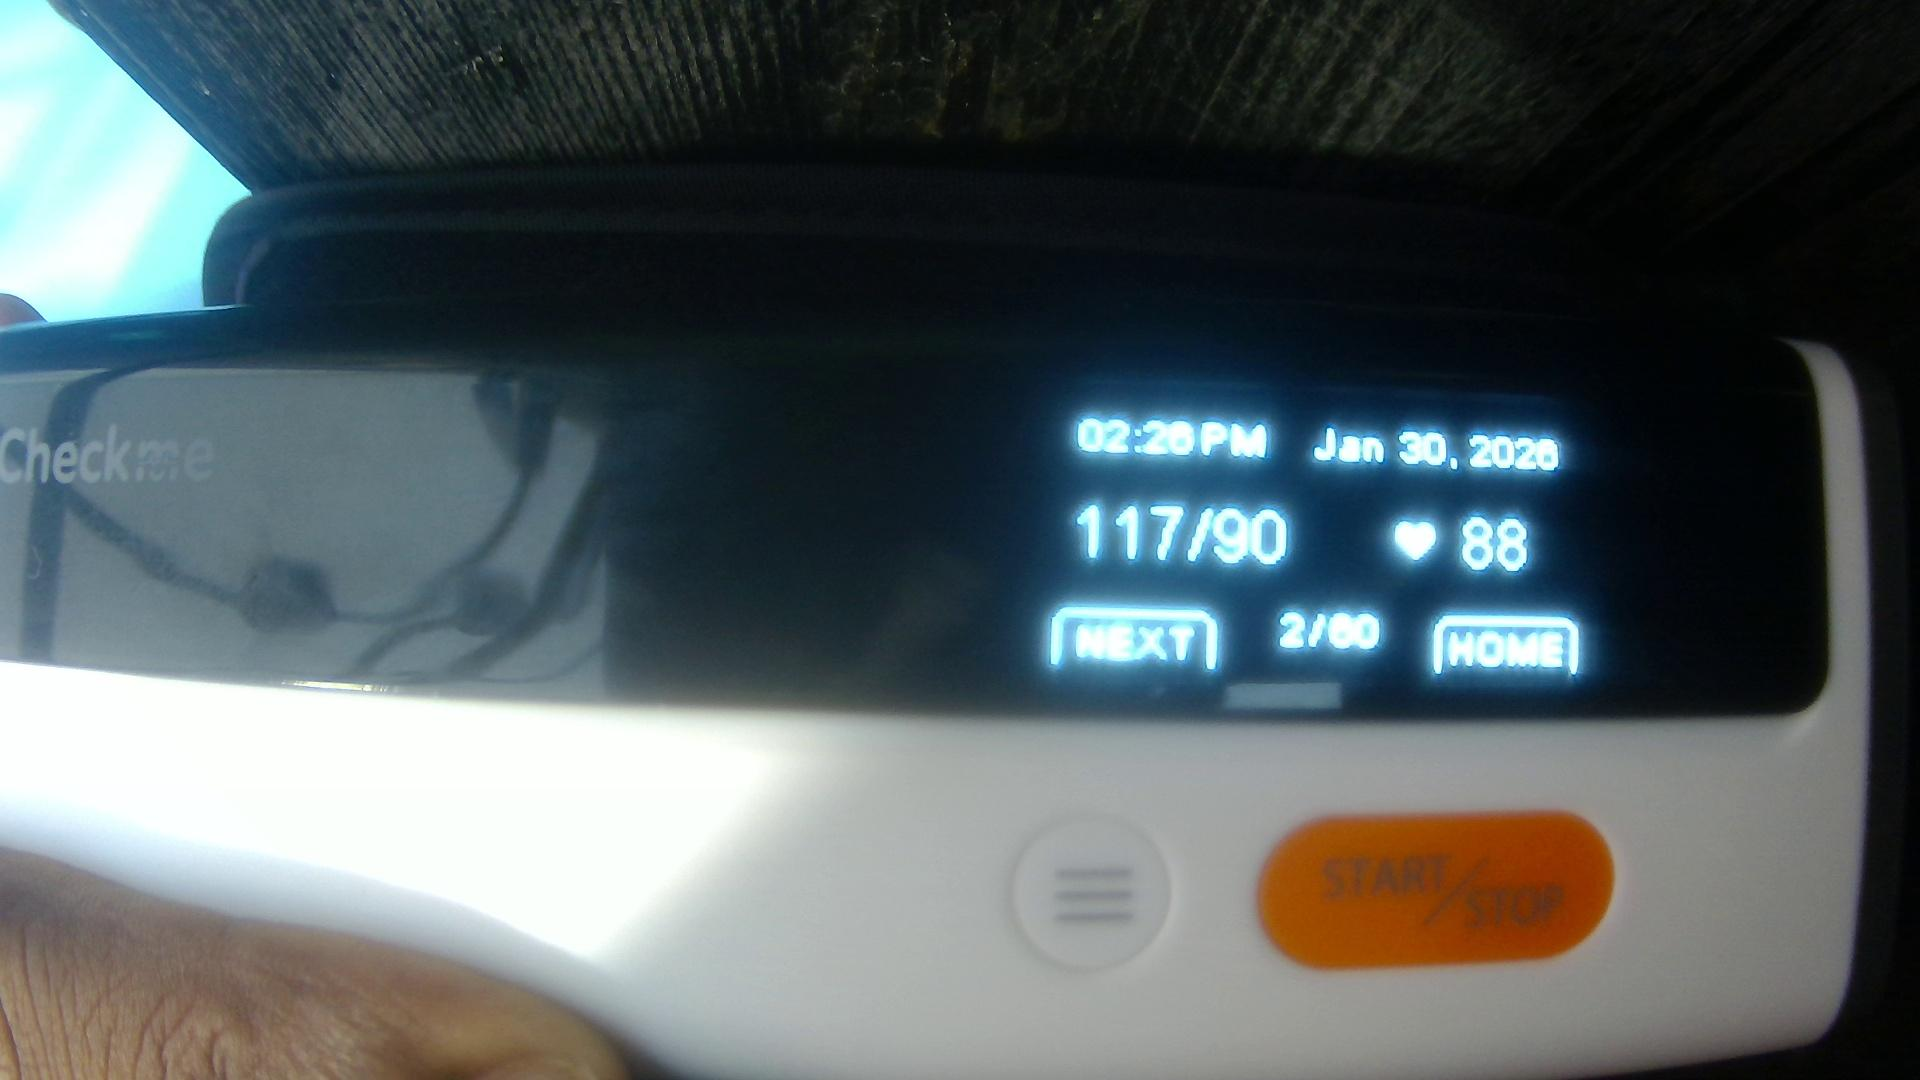DISPLAY: (11, 324, 1803, 720)
